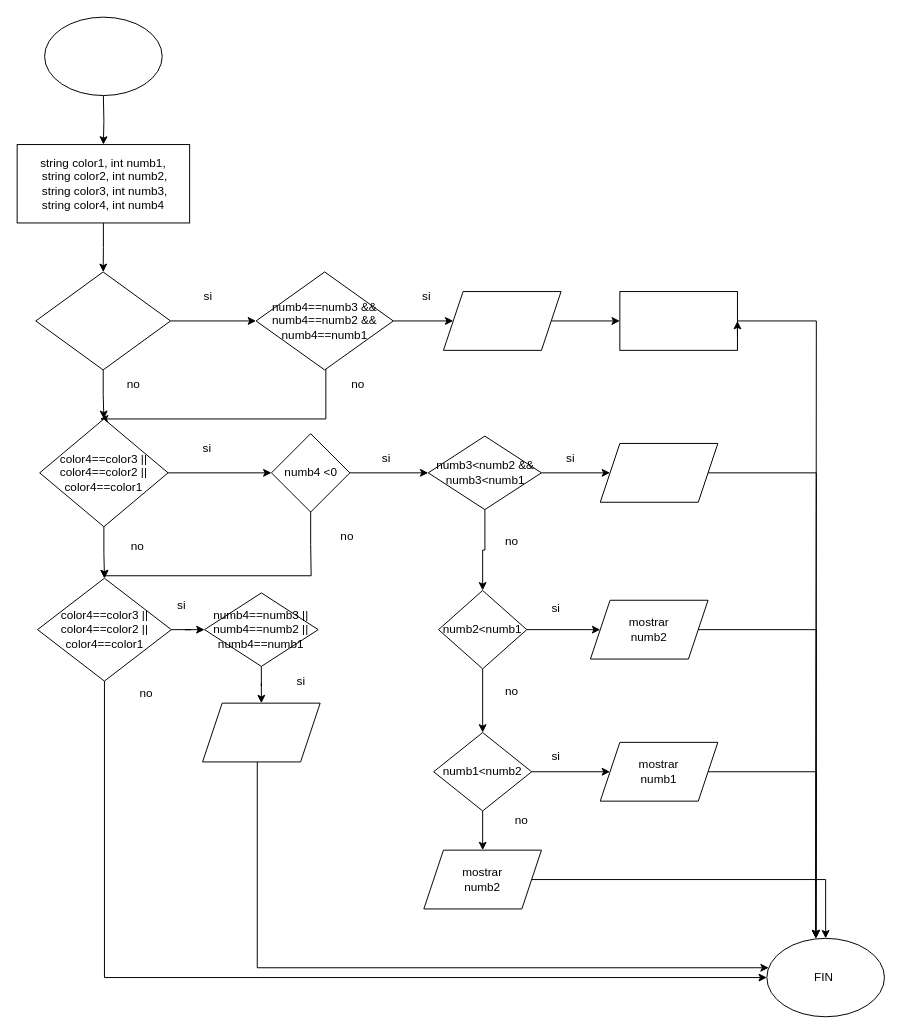
Image size: 902x1034. Some labels were removed from this diagram. Here are the shapes that lost their labels. From the top down, the centre of each, then its label:
At point (103, 56): "INICIO 12".
At point (103, 320): "color4==color3 && color4==color2 &&color4==color1".
At point (501, 320): "mostrar 1 2 3".
At point (678, 320): "color4=complete".
At point (658, 472): "mostrar numb3".
At point (261, 732): "mostrar numb4".
